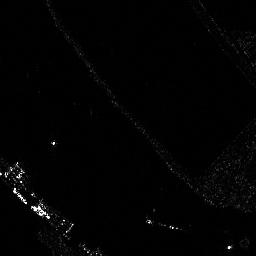ship: (5, 162, 36, 198)
